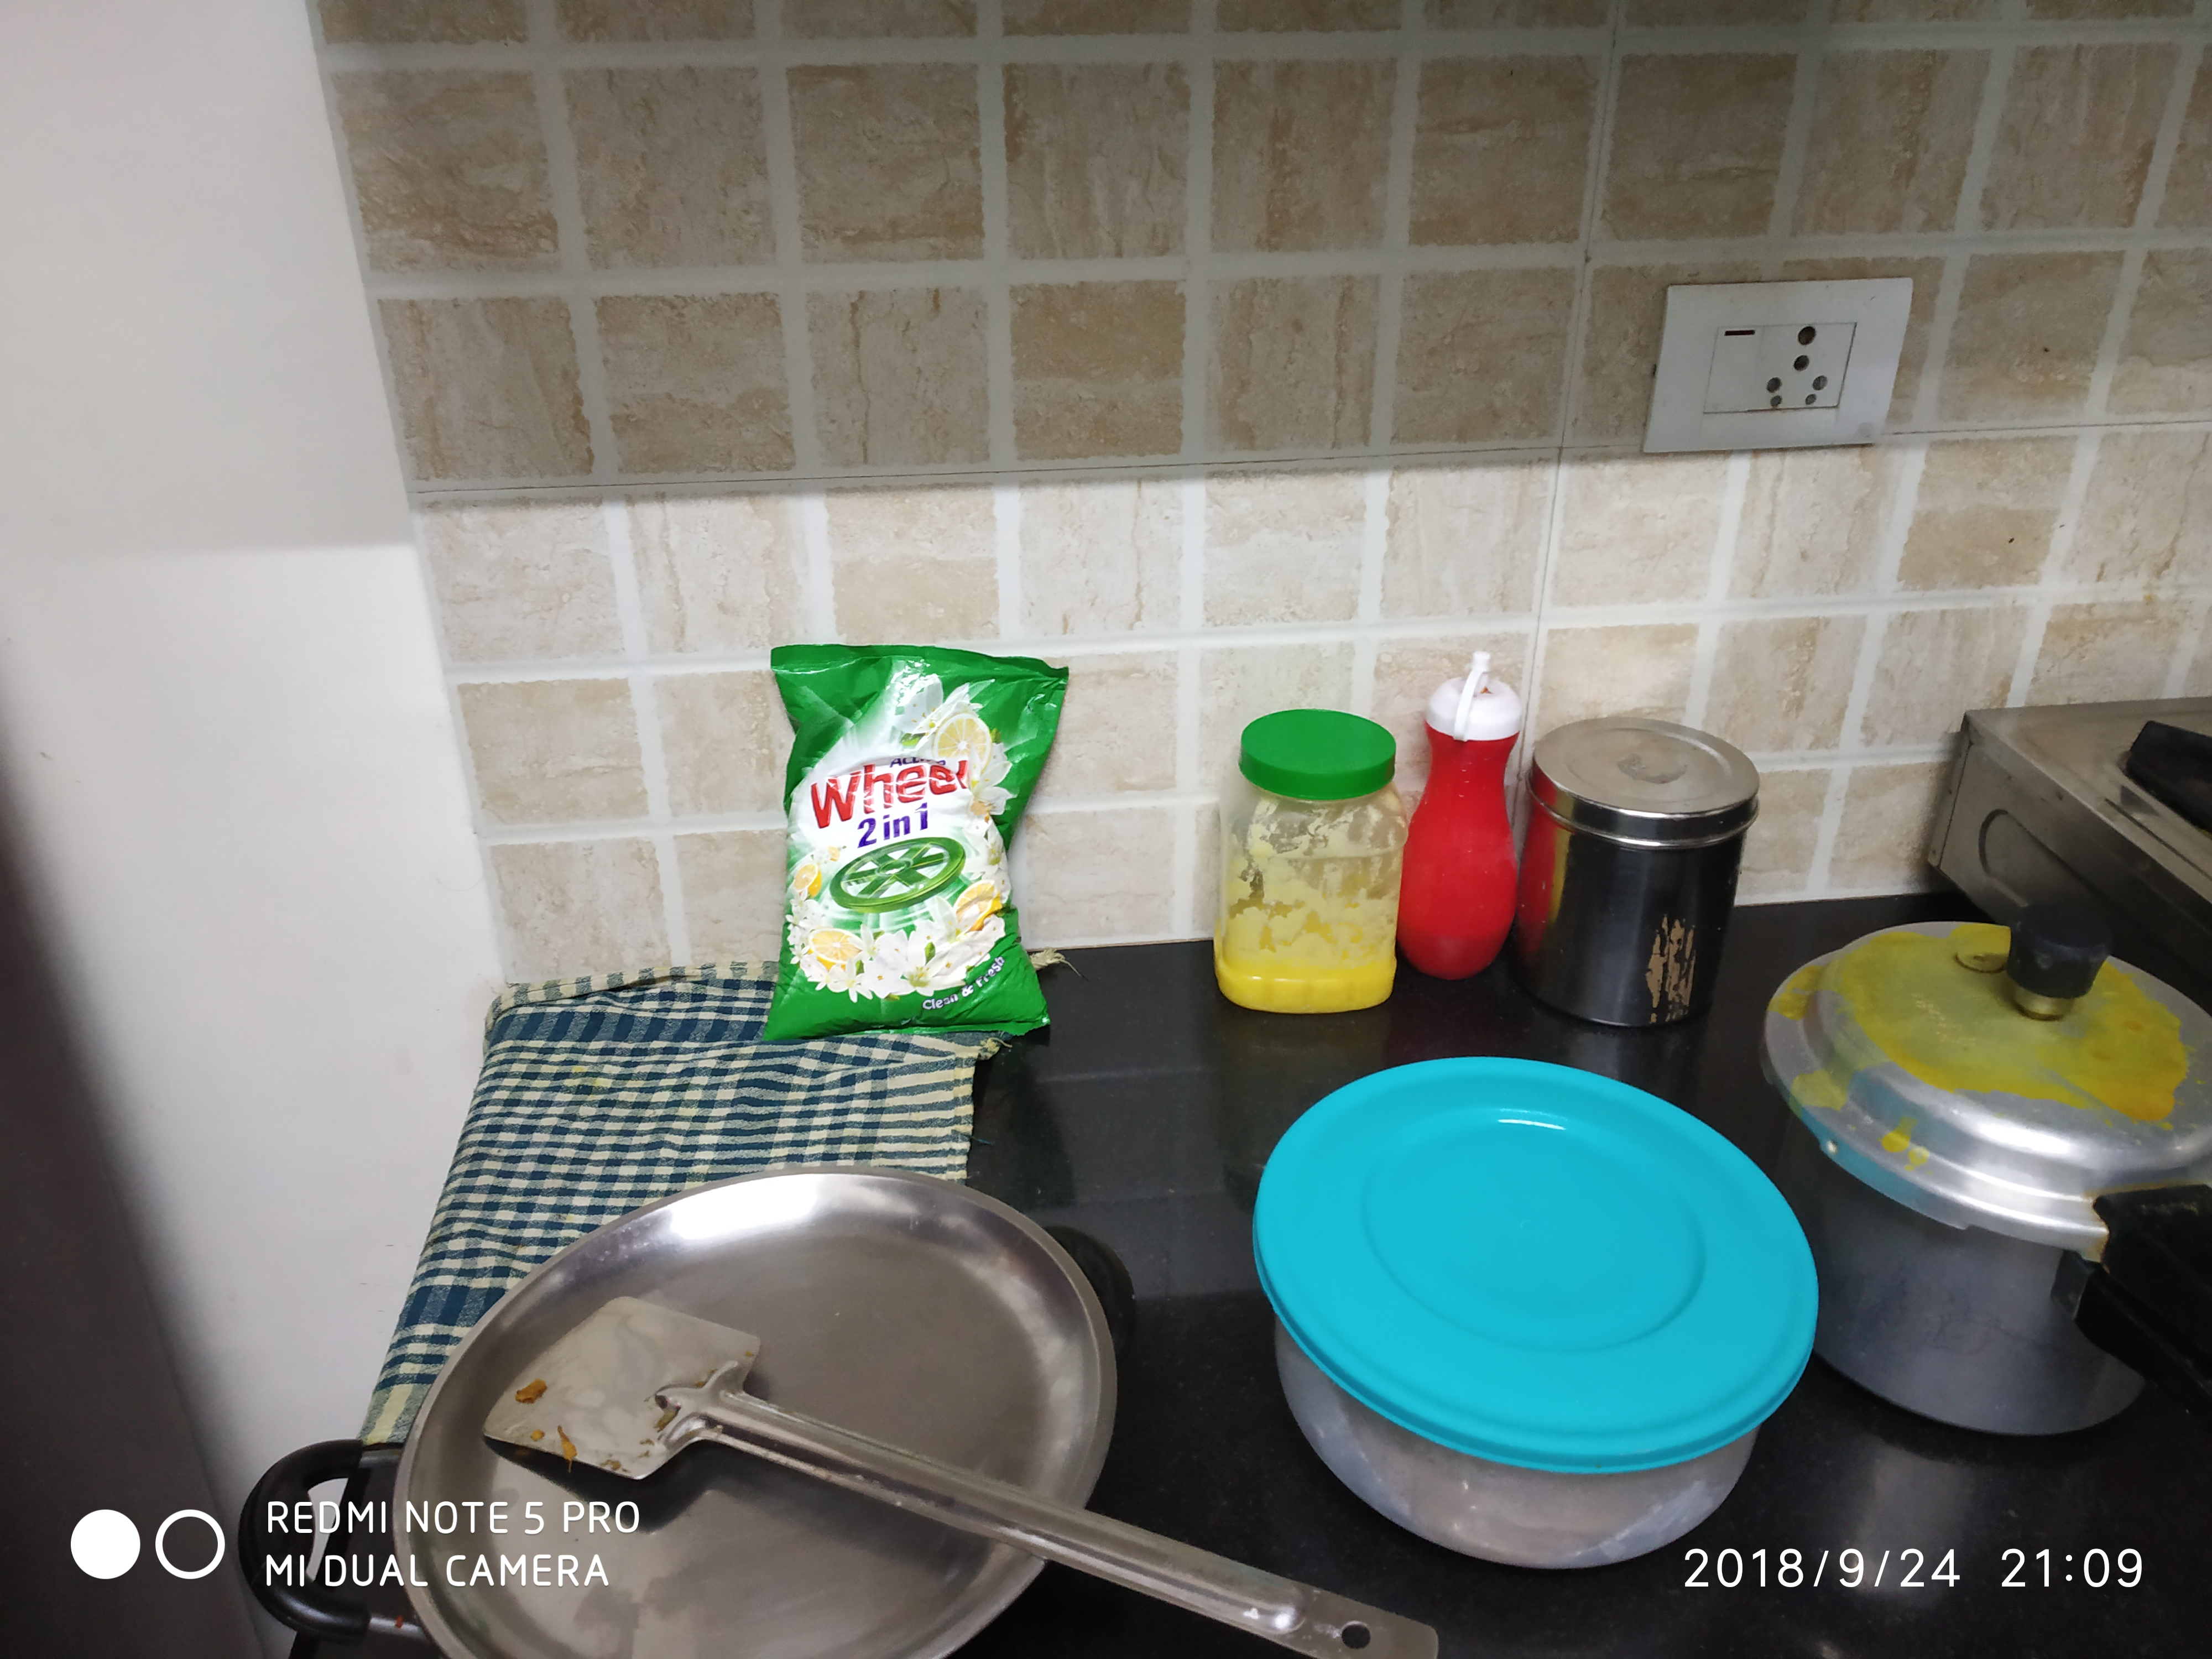detergent: (763, 638, 1062, 1051)
